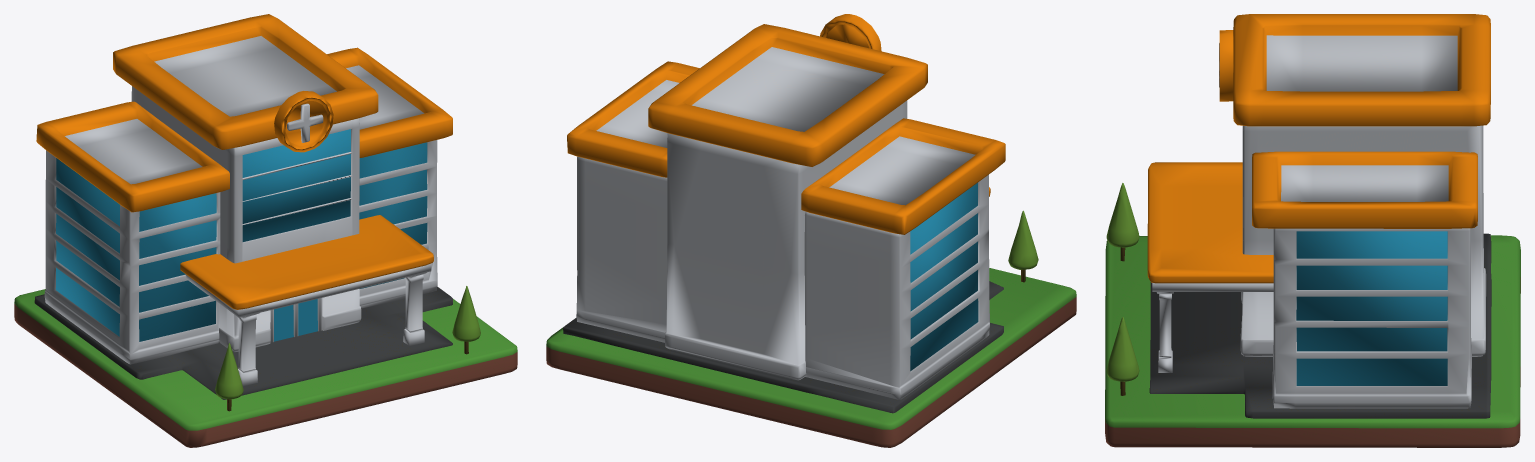
The model's file is Hospital2.glb.
The picture shows the model from 3 angles, left to right: view 1: azimuth 30°, elevation 25°; view 2: azimuth 150°, elevation 25°; view 3: azimuth 270°, elevation 25°; orthographic projection. The views are drawn at different scales.
Visible parts, largest first — view 1: 3d66-Editable_Poly-21534386-001; view 2: 3d66-Editable_Poly-21534386-001; view 3: 3d66-Editable_Poly-21534386-001.
Part boxes in pixels (x1,y1,x2,y2): 3d66-Editable_Poly-21534386-001: [14, 14, 517, 447]; 3d66-Editable_Poly-21534386-001: [546, 14, 1076, 447]; 3d66-Editable_Poly-21534386-001: [1105, 14, 1520, 447].
Size of the model in its own units: 2.1 by 1.68 by 1.96.
Materials: 1 (1 with a texture image).
